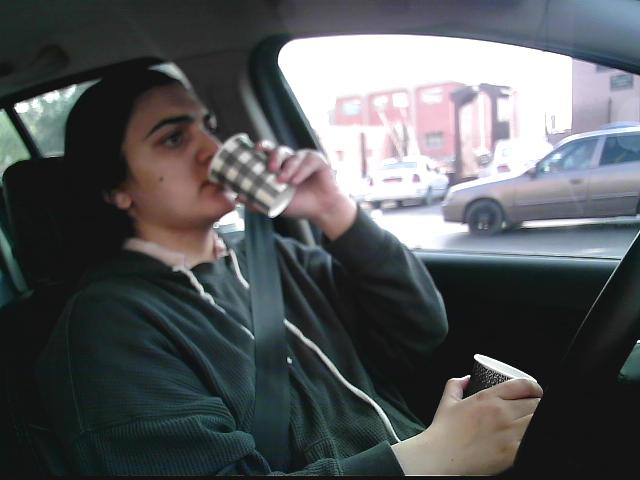Drinking: (454, 350, 541, 455), (204, 130, 297, 217)
